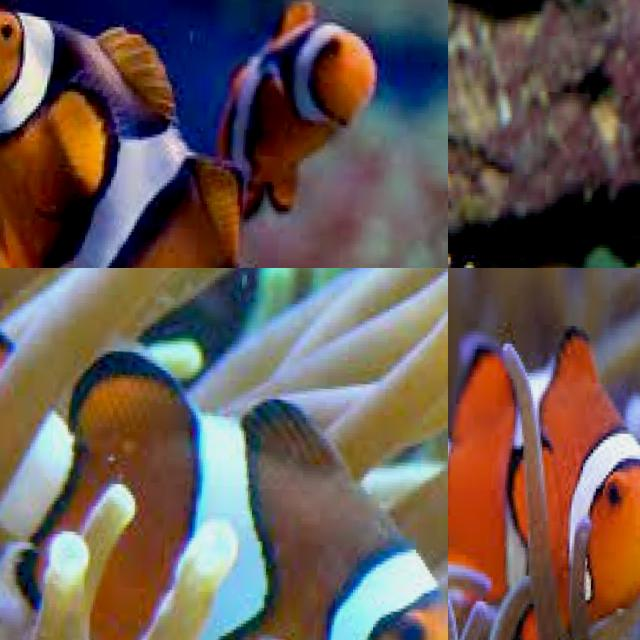Amphiprion-percula: (0, 296, 448, 640), (0, 0, 386, 268), (448, 277, 640, 640), (193, 0, 399, 234), (448, 0, 598, 268)
